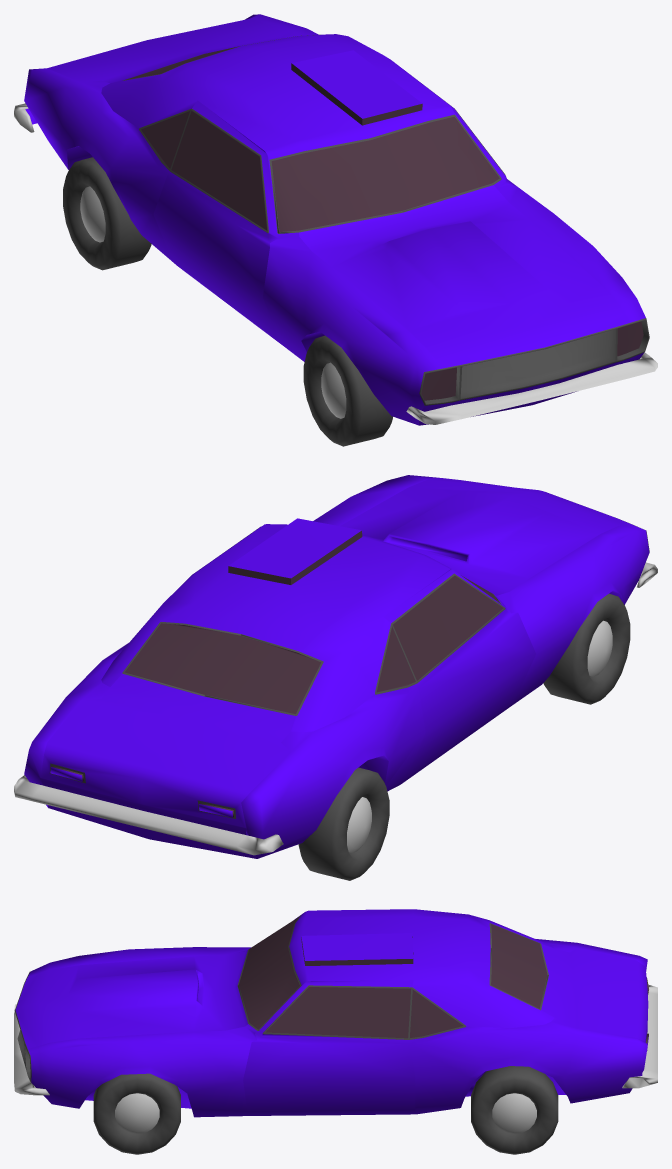
Rendered from pruebaCoche.FBX.
3 views of the same model, one above another, from view 1: azimuth 30°, elevation 25°; view 2: azimuth 150°, elevation 25°; view 3: azimuth 270°, elevation 25° (orthographic). The views are drawn at different scales.
Visible parts, largest first — view 1: Camaro2., FrontRight, BackRight, FrontRight_Disc, BackRight_Disc; view 2: Camaro2., BackRight, FrontRight, FrontRight_Disc, BackRight_Disc; view 3: Camaro2., BackLeft, FrontLeft, FrontLeft_Disc, BackLeft_Disc.
Part boxes in pixels (left/top/right/bottom): Camaro2.: left=14, top=14, right=657, bottom=425; FrontRight: left=303, top=335, right=392, bottom=446; BackRight: left=63, top=157, right=151, bottom=270; FrontRight_Disc: left=321, top=362, right=346, bottom=418; BackRight_Disc: left=80, top=186, right=105, bottom=242; Camaro2.: left=14, top=475, right=657, bottom=858; BackRight: left=298, top=767, right=389, bottom=880; FrontRight: left=543, top=593, right=630, bottom=704; FrontRight_Disc: left=587, top=620, right=612, bottom=676; BackRight_Disc: left=347, top=797, right=371, bottom=852; Camaro2.: left=14, top=909, right=657, bottom=1117; BackLeft: left=471, top=1066, right=558, bottom=1154; FrontLeft: left=93, top=1073, right=180, bottom=1154; FrontLeft_Disc: left=115, top=1093, right=159, bottom=1133; BackLeft_Disc: left=492, top=1093, right=536, bottom=1133.
Bounding box in the file's own units: 15.36 × 11.48 × 39.2.
